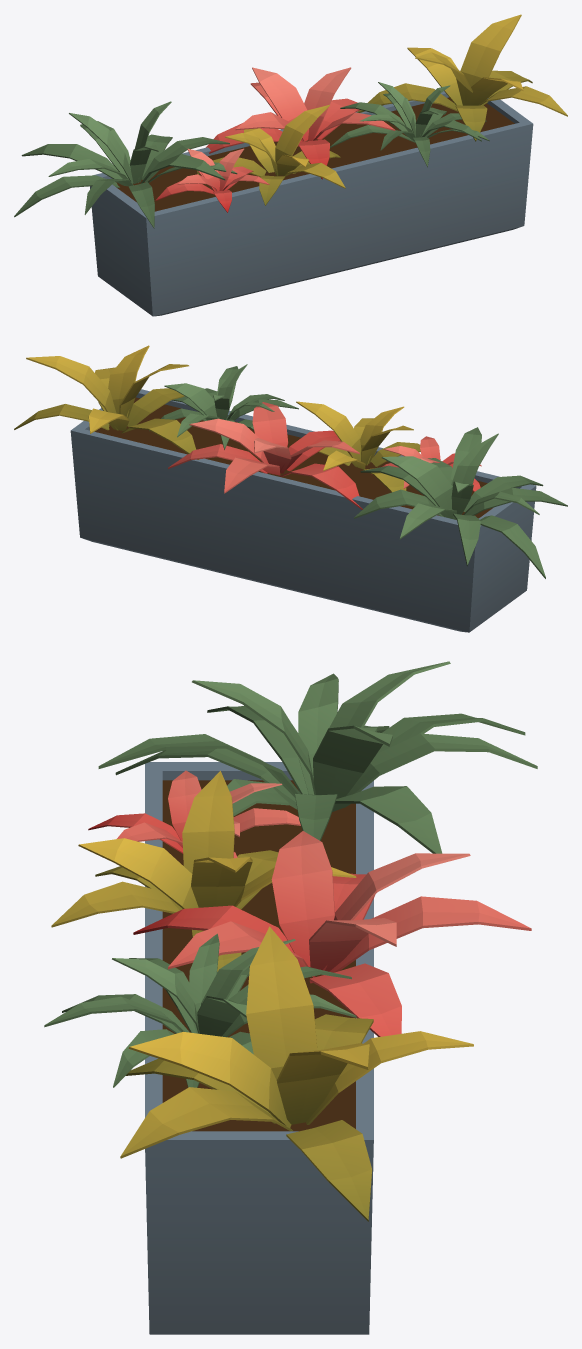
Rendered from Flowerbed_06.fbx.
3 renders of one model, top to bottom at view 1: azimuth 30°, elevation 25°; view 2: azimuth 150°, elevation 25°; view 3: azimuth 270°, elevation 25°, orthographic. The views are drawn at different scales.
Visible parts, largest first — view 1: Flowerbed_06; view 2: Flowerbed_06; view 3: Flowerbed_06.
Boxes of the visible parts, bbox=[...] form: Flowerbed_06: bbox=[14, 14, 567, 316]; Flowerbed_06: bbox=[14, 345, 567, 632]; Flowerbed_06: bbox=[44, 661, 537, 1334].
Bounding box in the file's own units: 260 × 81.52 × 108.
